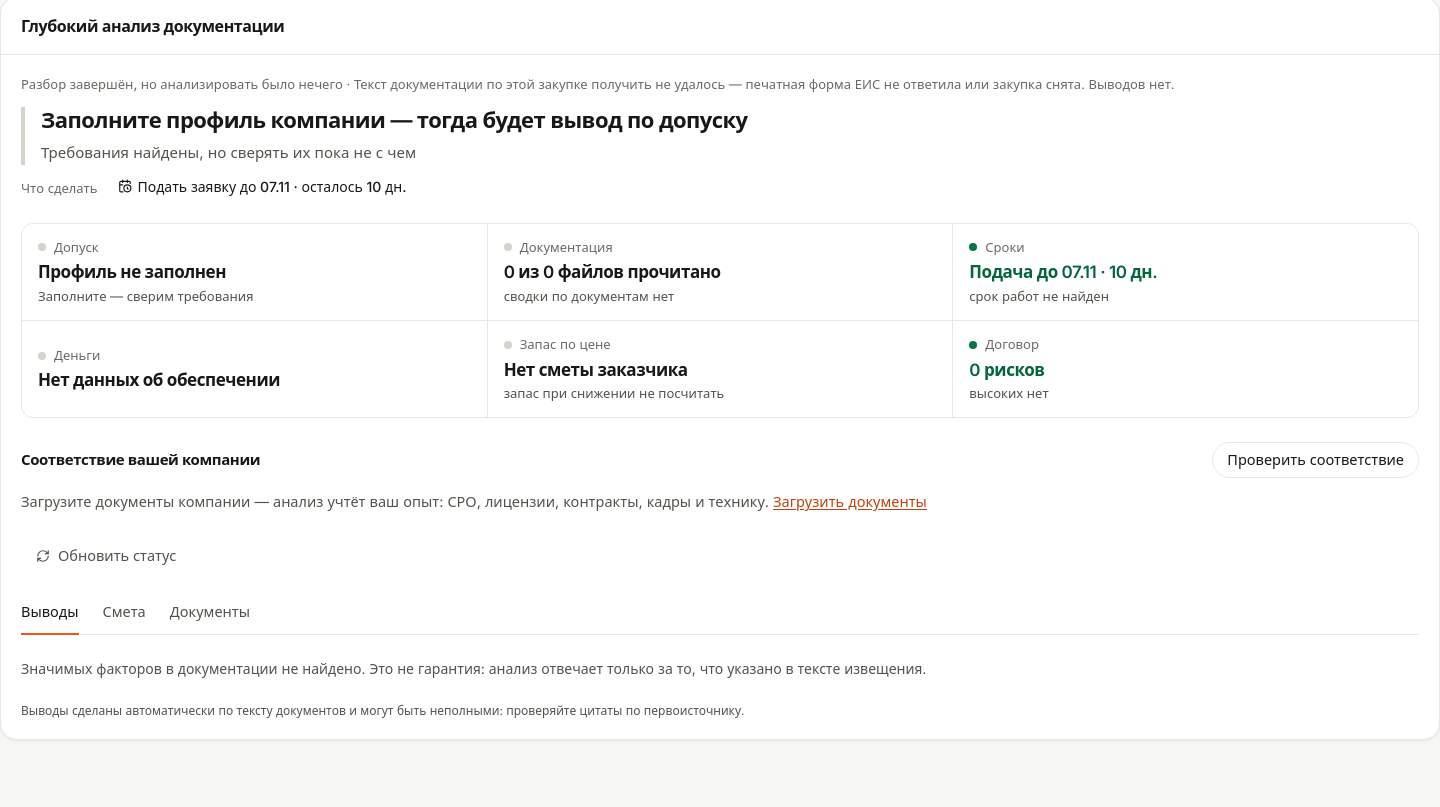
Test: DeepAnalysisPanel: аудит сметы заказчика › идёт проверка — кнопка заблокирована, показан прогресс
Click the tab "Смета". click: (124,616)
box: x1=102 y1=597 x2=146 y2=635
(page scrolled)
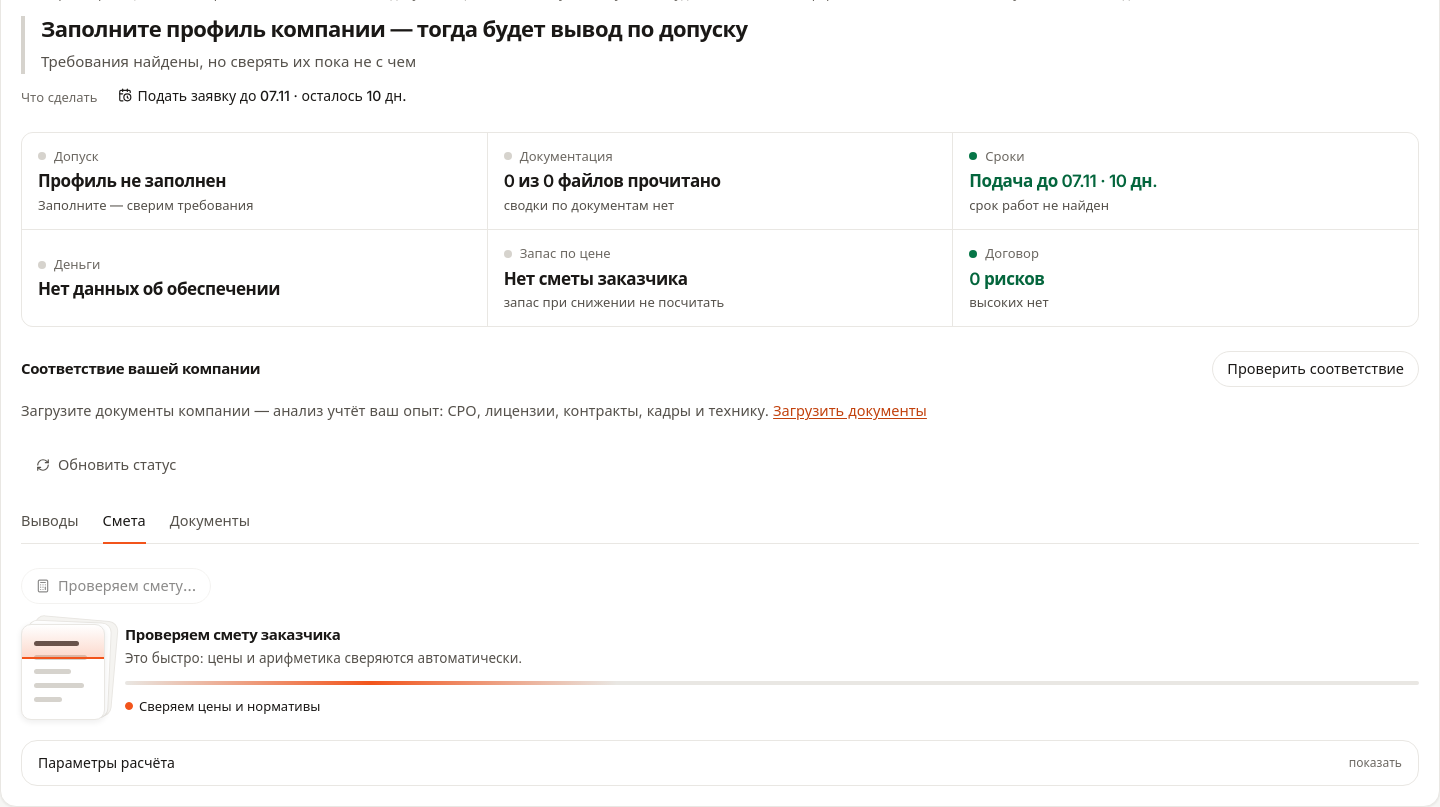
Expected: the button "Проверяем смету…" is disabled, x1=21 y1=568 x2=211 y2=604
Expected: the element with test id "audit-progress" is shown, x1=21 y1=624 x2=1419 y2=720
